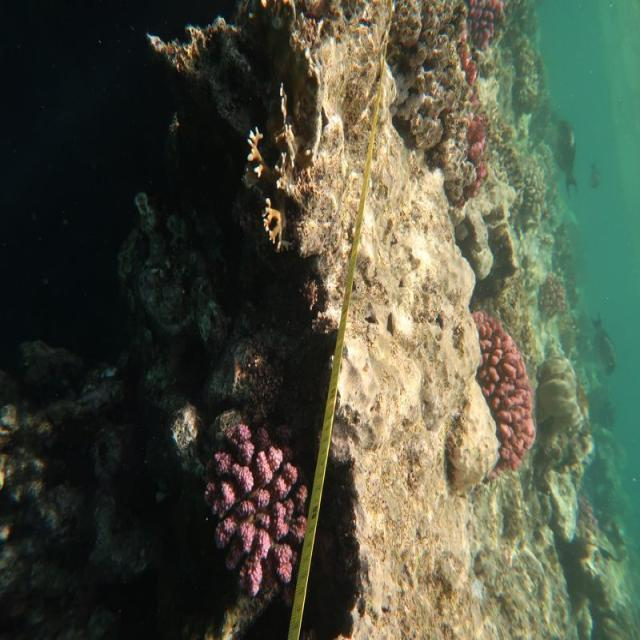Healthy Coral: (204, 428, 313, 585), (475, 299, 540, 483), (459, 0, 516, 54)
